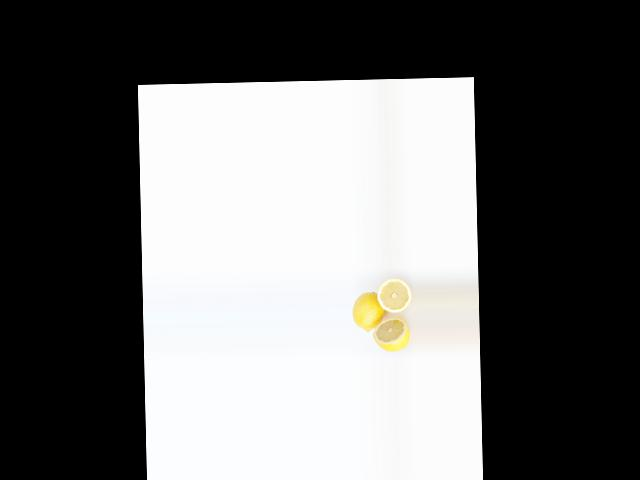lemon: (351, 288, 384, 335)
